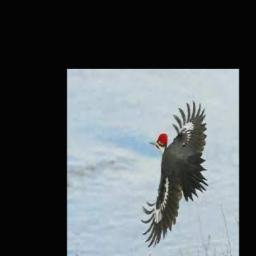Woodpecker: (140, 99, 208, 247)
